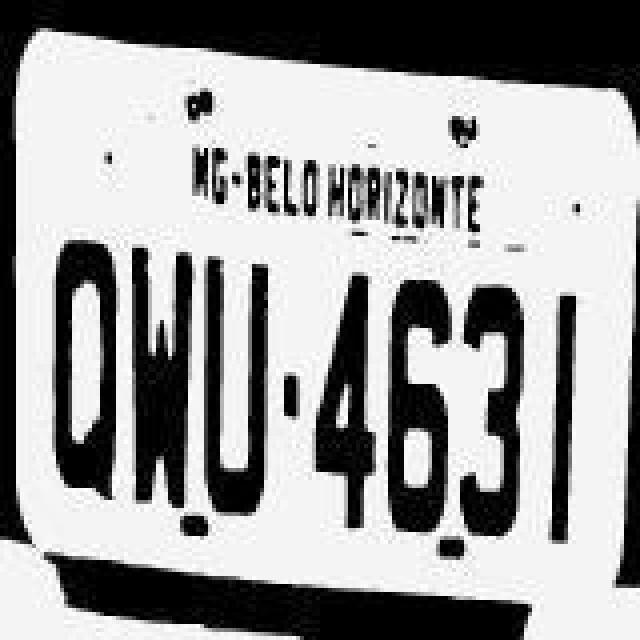1: (540, 288, 596, 544)
3: (458, 288, 534, 536)
4: (312, 260, 384, 540)
6: (376, 274, 456, 542)
Q: (44, 234, 132, 502)
U: (200, 242, 280, 518)
W: (128, 240, 200, 512)
